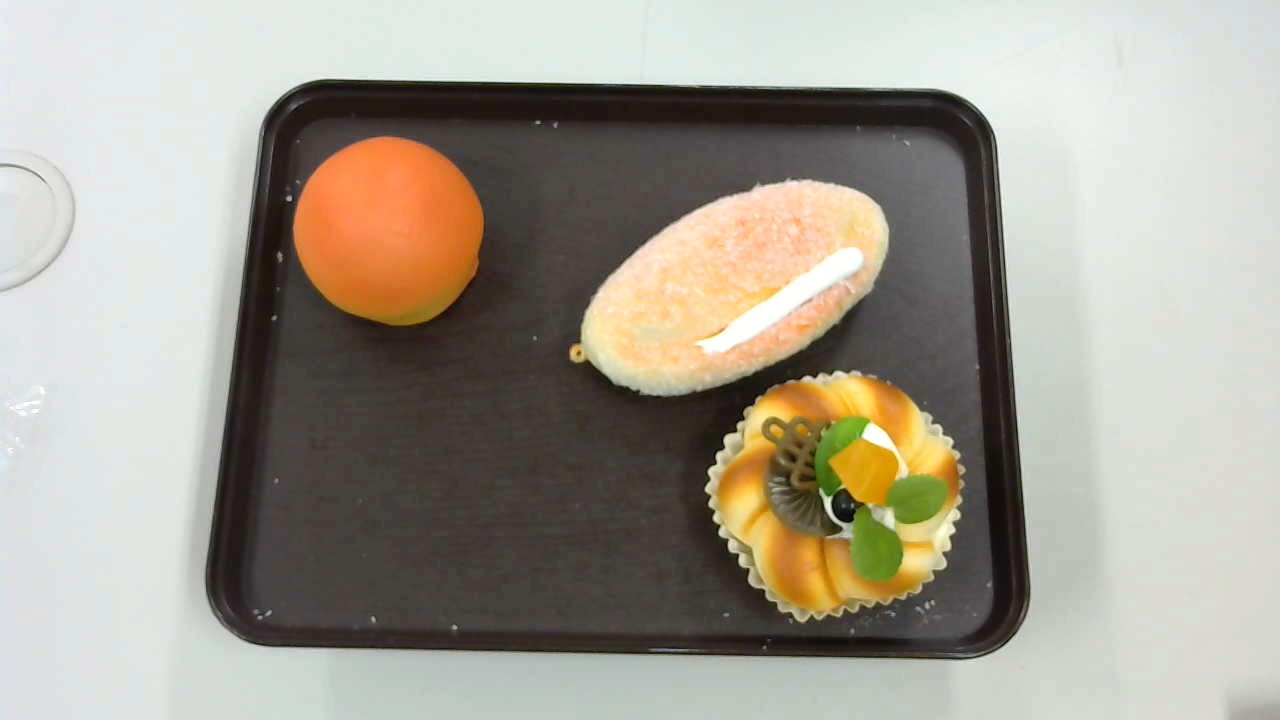bun: (292, 135, 483, 326)
coconut: (570, 177, 889, 398)
fruit tart: (706, 370, 965, 622)
